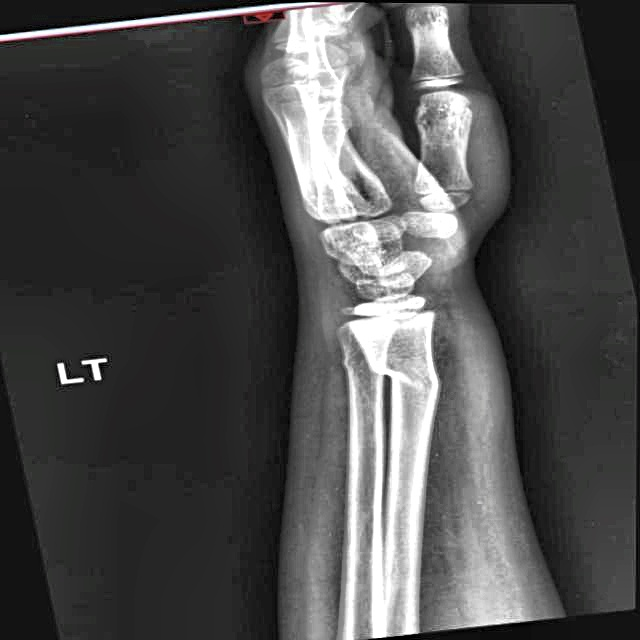Greenstick: (348, 337, 426, 393)
